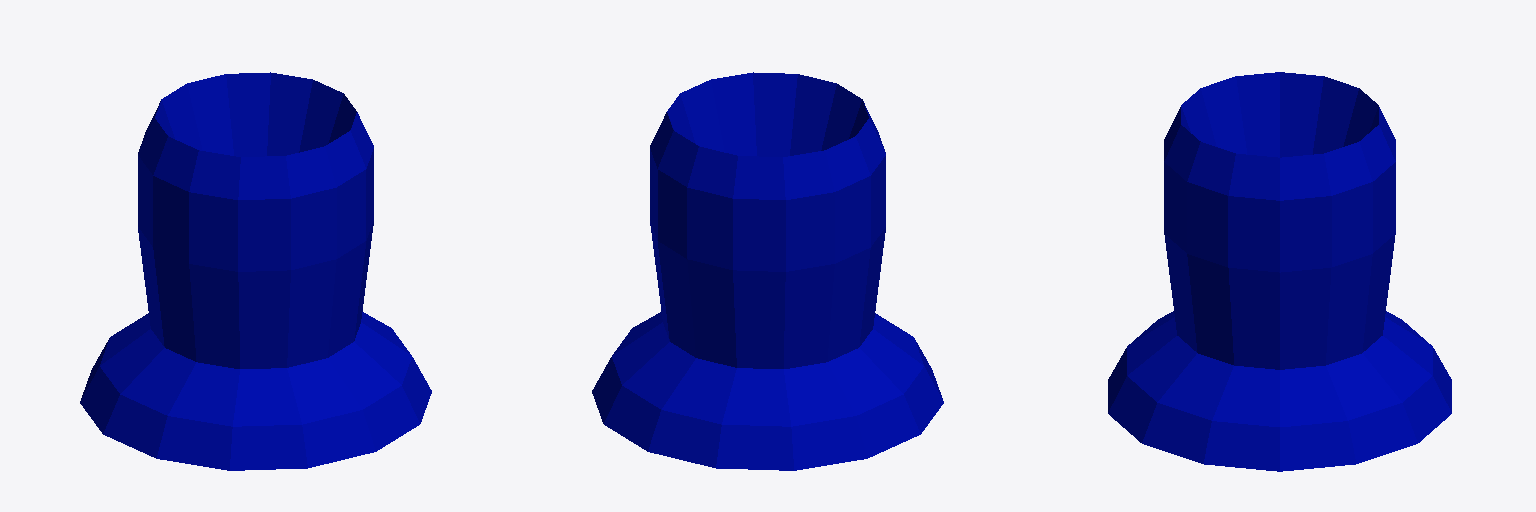
Rendered from testRoundObject.obj.
The picture shows the model from 3 angles: view 1: azimuth 30°, elevation 25°; view 2: azimuth 150°, elevation 25°; view 3: azimuth 270°, elevation 25°; orthographic projection.
Parts seen in each view (by area): view 1: testRoundCyl1; view 2: testRoundCyl1; view 3: testRoundCyl1.
Boxes of the visible parts, x1=… form: testRoundCyl1: x1=80, y1=72, x2=431, y2=470; testRoundCyl1: x1=592, y1=72, x2=943, y2=470; testRoundCyl1: x1=1108, y1=72, x2=1451, y2=471.
Size of the model in its own units: 8.93 by 7.87 by 8.71.